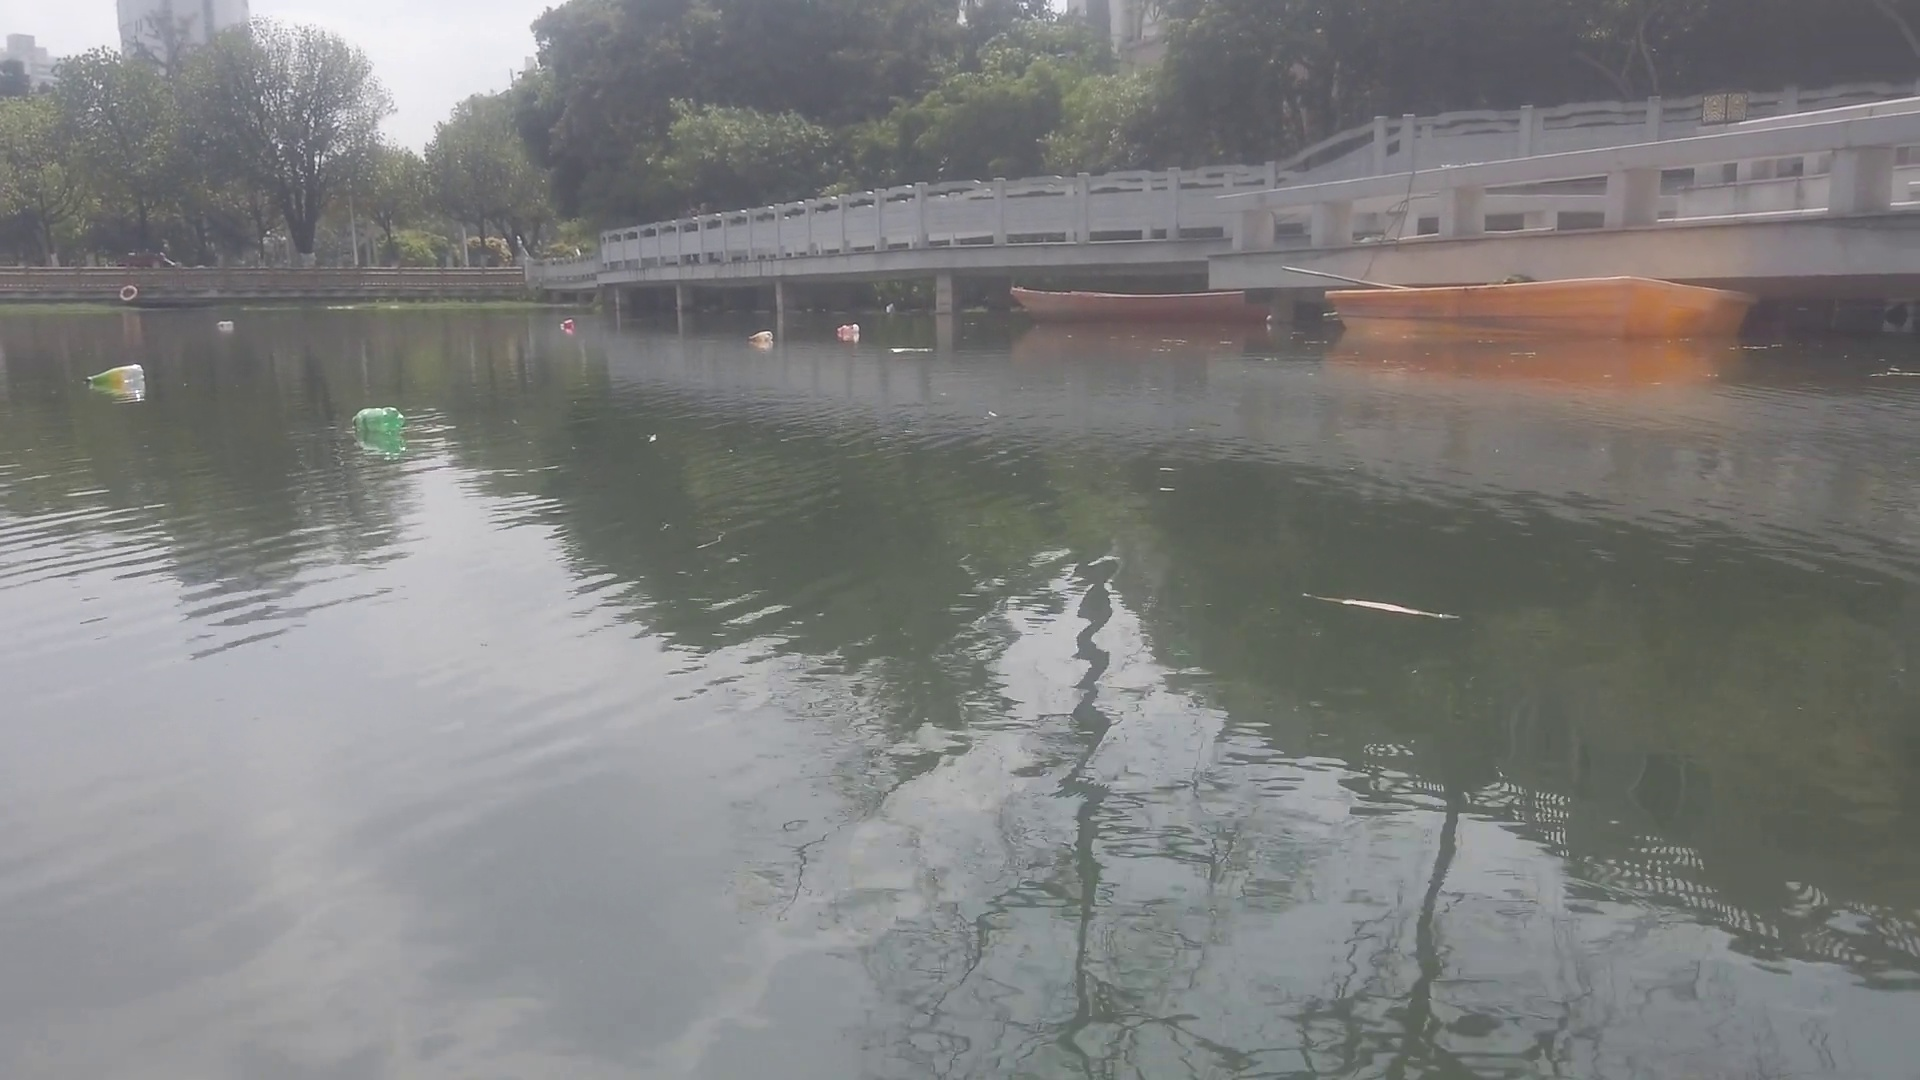bottle: (80, 360, 149, 382), (349, 406, 406, 430), (740, 330, 779, 340), (835, 320, 858, 334), (559, 316, 574, 328), (215, 320, 233, 328)
paper: (887, 345, 935, 357)
